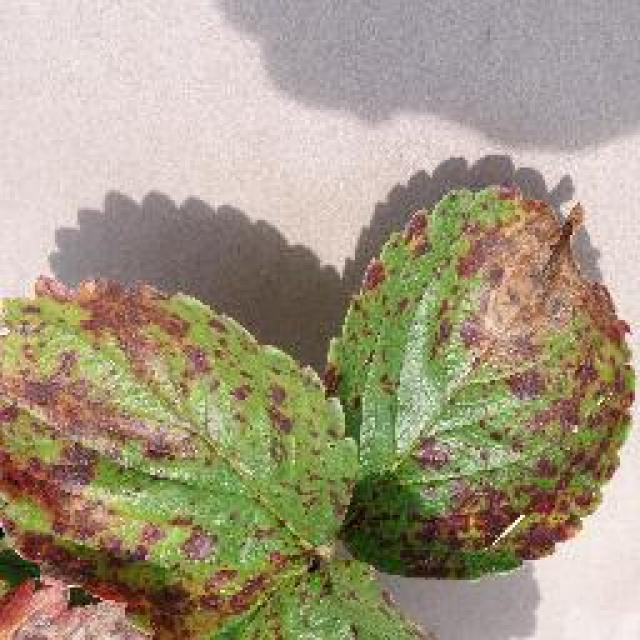Strawberry leaf scorch: (22, 312, 558, 540)
